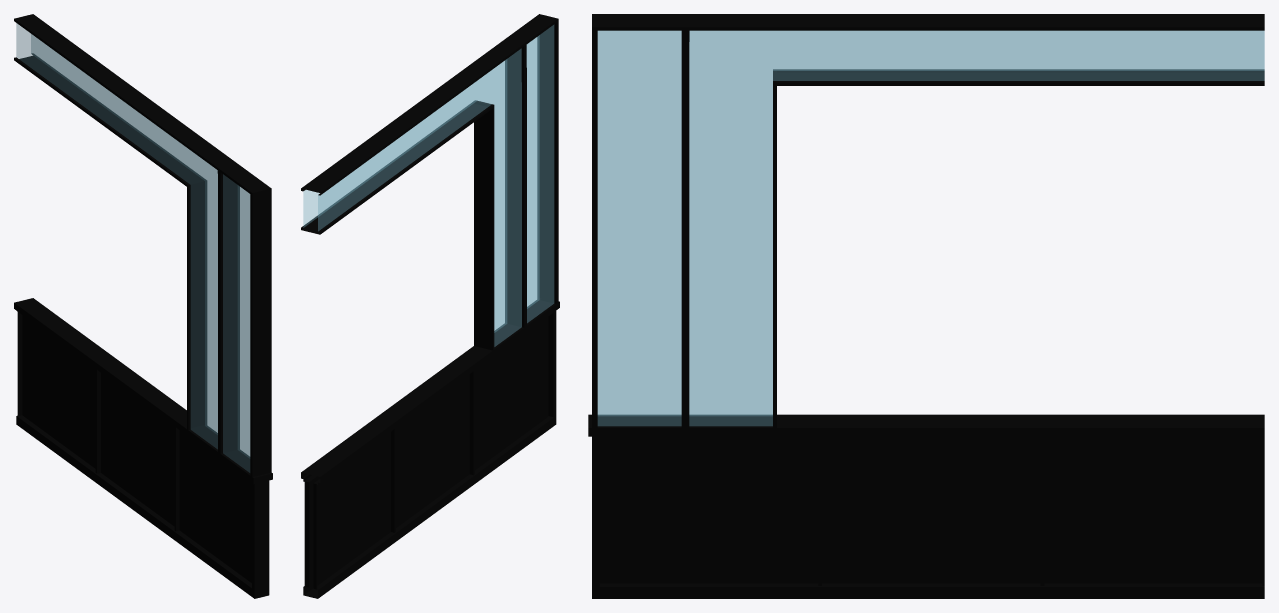
File: PetitMur.glb
3 renders of one model, left to right at view 1: azimuth 30°, elevation 25°; view 2: azimuth 150°, elevation 25°; view 3: azimuth 270°, elevation 25°, orthographic. The views are drawn at different scales.
Parts seen in each view (by area): view 1: Cube; view 2: Cube; view 3: Cube.
Part boxes in pixels (x1=…): Cube: x1=14, y1=14, x2=272, y2=598; Cube: x1=301, y1=14, x2=559, y2=598; Cube: x1=588, y1=14, x2=1264, y2=598.
Size of the model in its own units: 0.1645 by 3.32 by 3.55.
